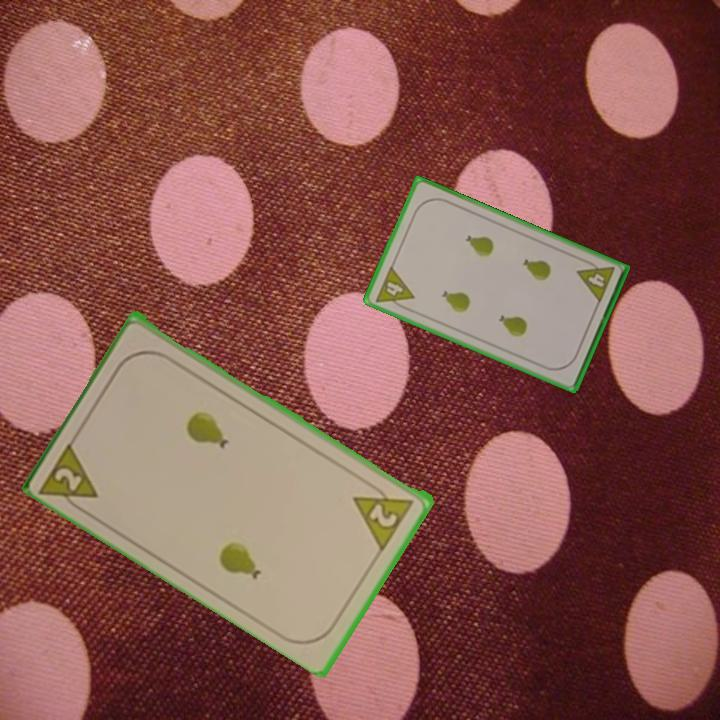2p: (36, 436, 103, 518), (350, 478, 418, 552)
4p: (371, 262, 417, 314), (573, 256, 617, 306)
